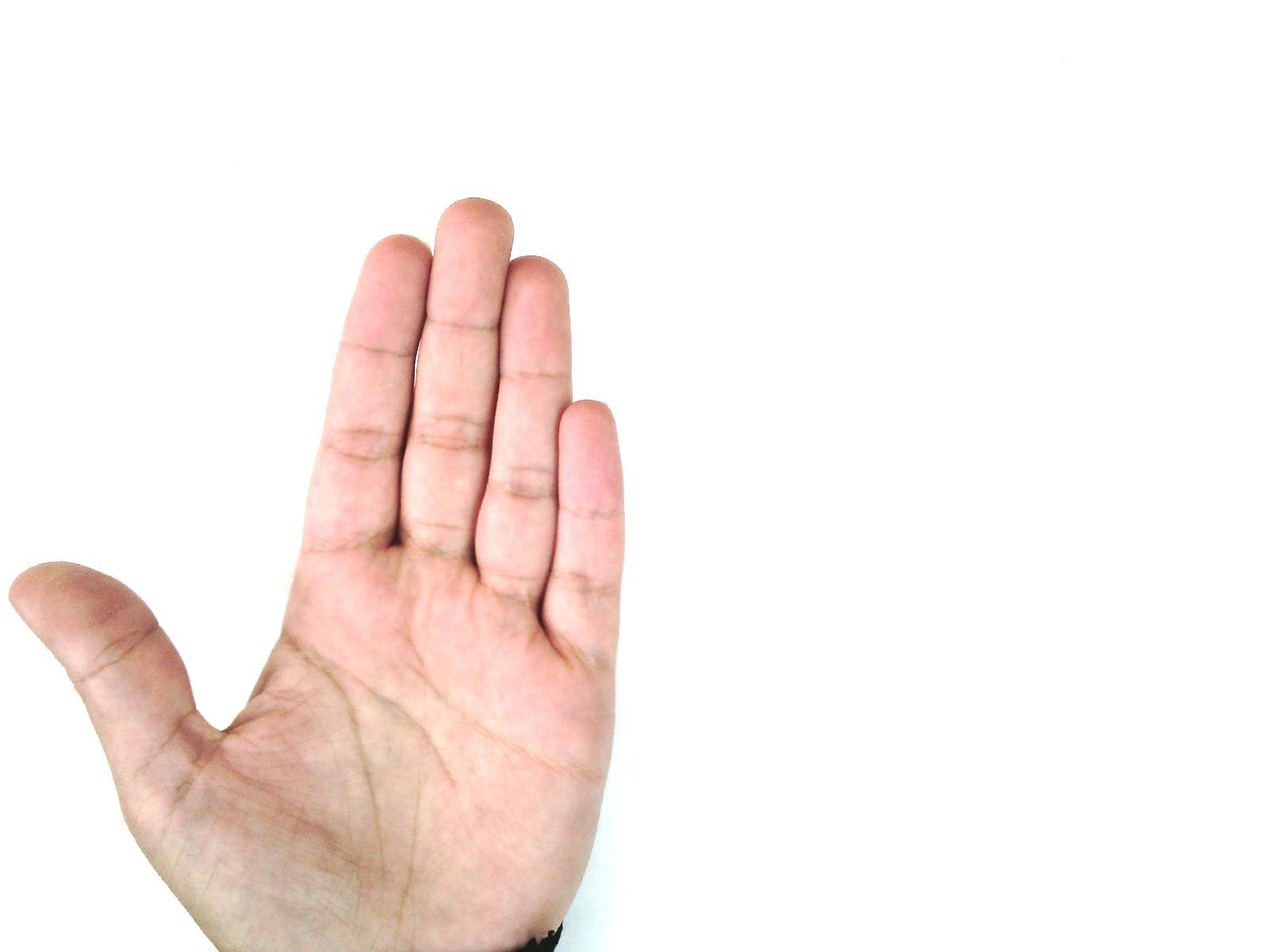open_palm: (10, 195, 630, 951)
